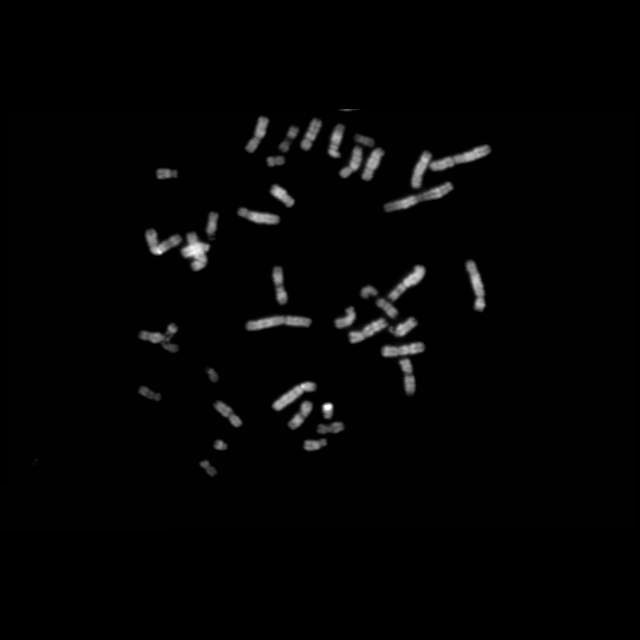chromosome: (385, 183, 453, 213), (430, 145, 490, 171), (272, 382, 316, 412), (388, 266, 426, 300), (246, 316, 312, 332), (466, 260, 486, 312), (350, 318, 388, 344), (146, 230, 182, 254), (186, 231, 206, 271), (246, 116, 268, 152), (213, 402, 242, 428), (362, 148, 384, 182), (289, 400, 313, 430), (412, 151, 432, 187), (300, 118, 322, 150), (238, 208, 280, 224), (340, 148, 362, 178), (272, 265, 288, 305), (399, 358, 415, 396), (382, 342, 424, 356), (328, 124, 344, 158), (390, 318, 418, 337), (271, 185, 294, 207), (162, 324, 180, 352), (278, 127, 297, 153), (377, 299, 398, 319), (183, 242, 209, 258), (335, 308, 355, 328), (137, 331, 165, 344), (316, 422, 346, 434), (303, 438, 327, 452), (140, 387, 160, 401), (206, 212, 218, 235), (199, 460, 216, 476), (355, 135, 375, 147), (157, 169, 178, 179), (361, 287, 377, 299), (323, 402, 333, 420), (268, 156, 284, 167), (208, 369, 220, 383), (215, 441, 228, 452)
